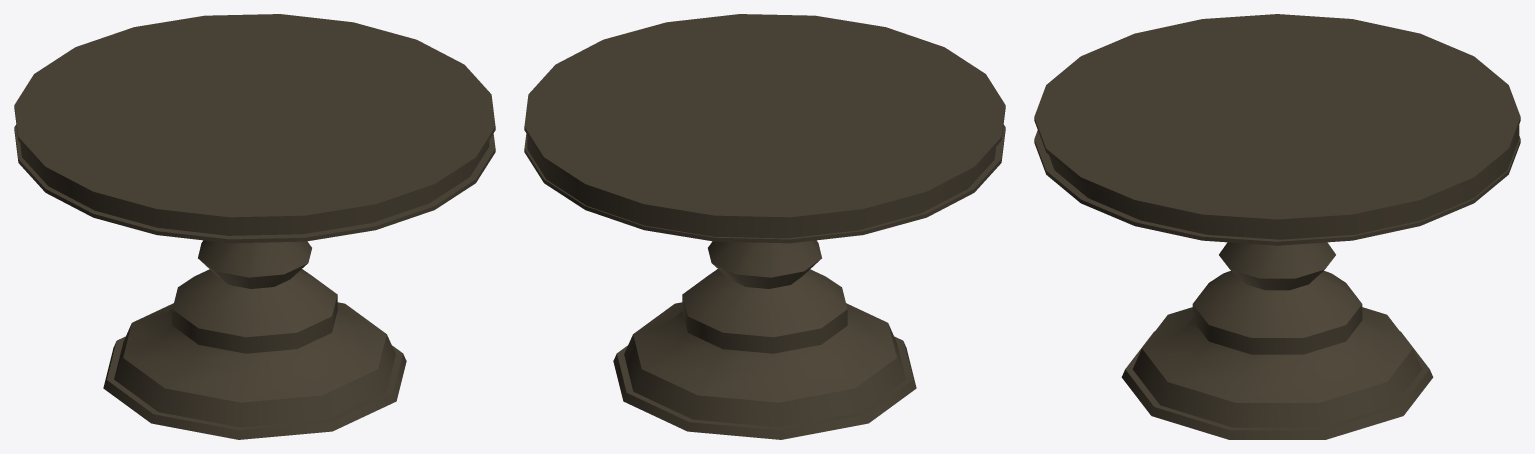
The model's file is table_round.glb.
3 views of the same model, side by side, from view 1: azimuth 30°, elevation 25°; view 2: azimuth 150°, elevation 25°; view 3: azimuth 270°, elevation 25° (orthographic).
Visible parts, largest first — view 1: table_round; view 2: table_round; view 3: table_round.
Boxes of the visible parts, x1,y1,x2,y2 form: table_round: (14,14,495,439); table_round: (524,14,1005,439); table_round: (1034,14,1520,439).
Bounding box in the file's own units: 1.27 × 0.75 × 1.27.
